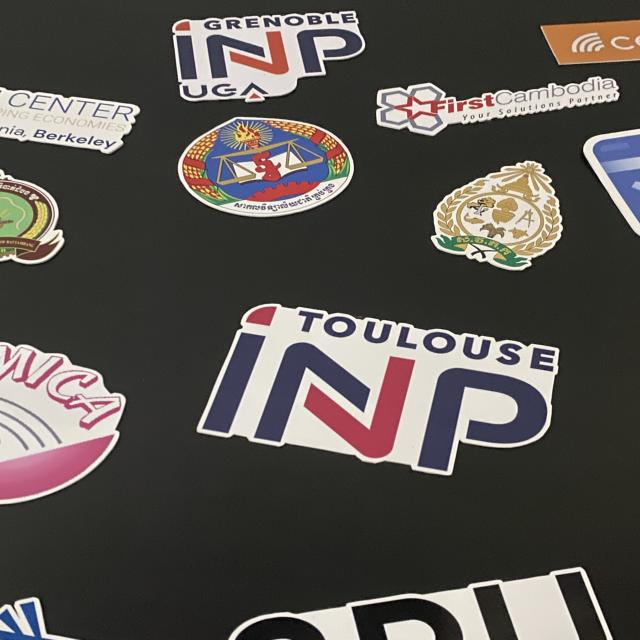Yolov11kh: (225, 177, 346, 216)
